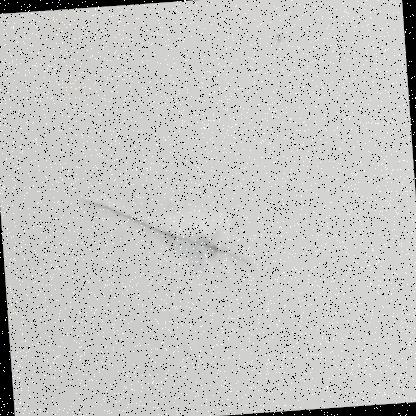Crack: (68, 170, 272, 308)
